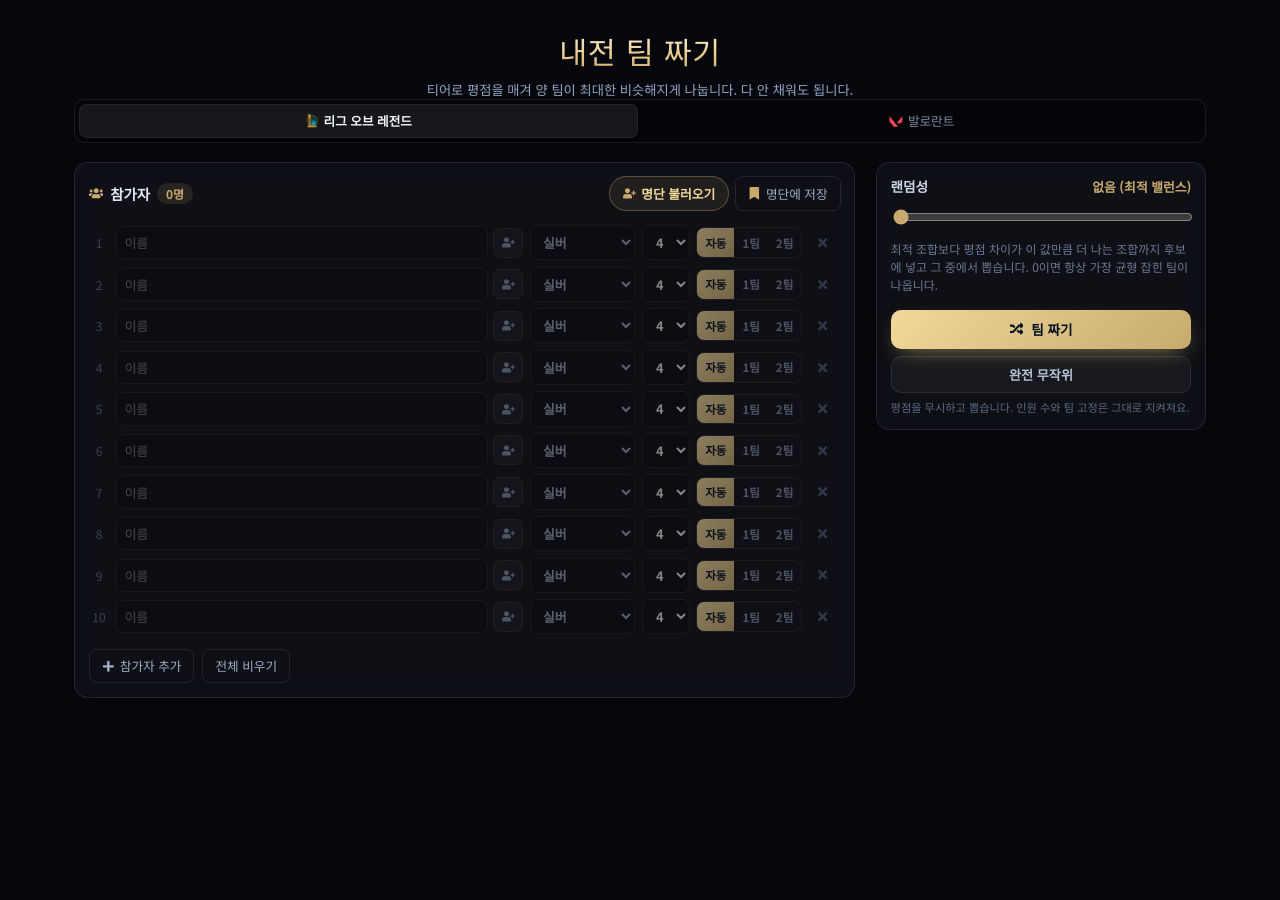
불러오기로 여러 명을 한 번에 참가자로 넣는다
This screenshot has width=1280, height=900.
Click the button "명단 불러오기".
click(669, 194)  # box [609,176,729,211]
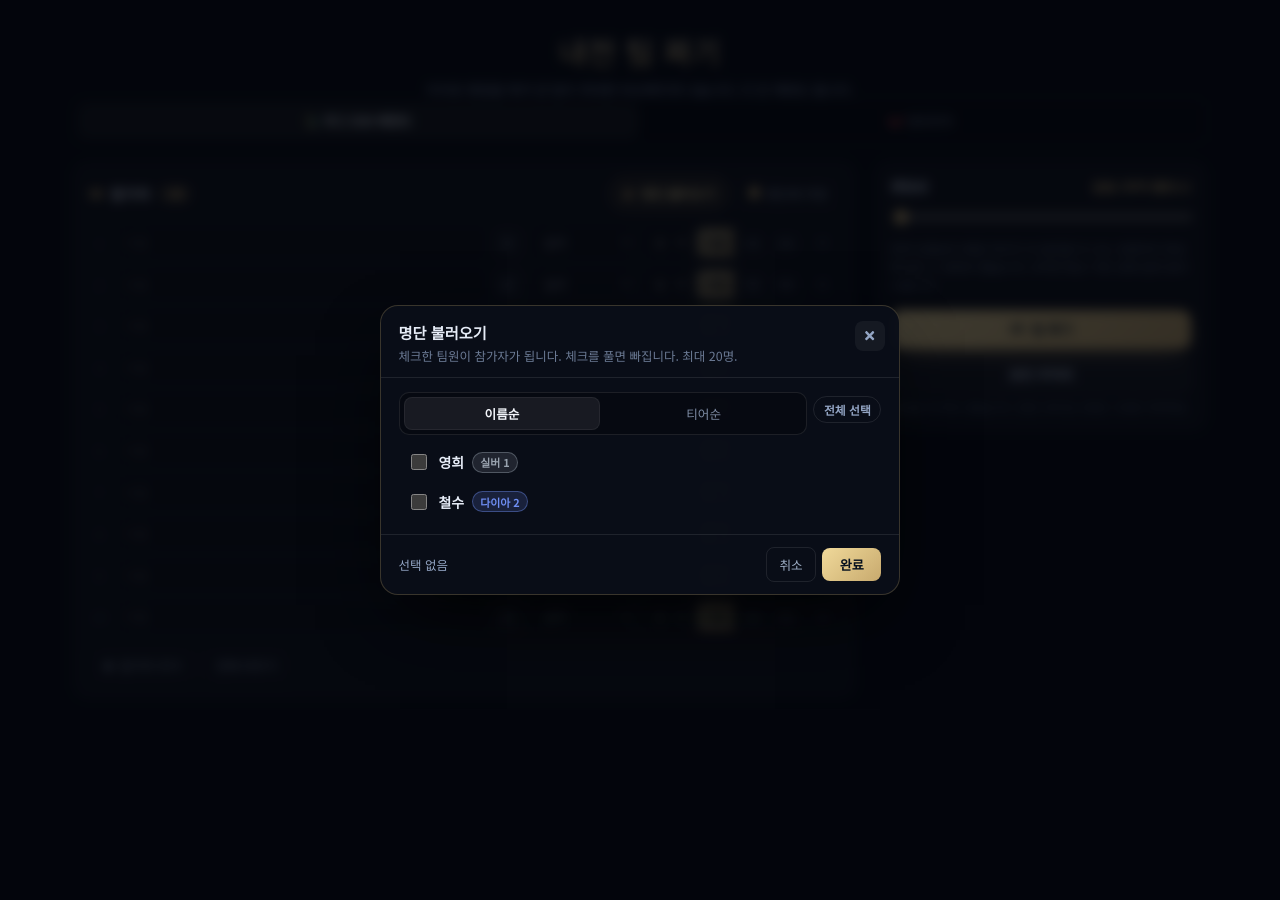
Click the checkbox labelled "영희 실버 1".
click(419, 462)  # box [411,454,427,470]
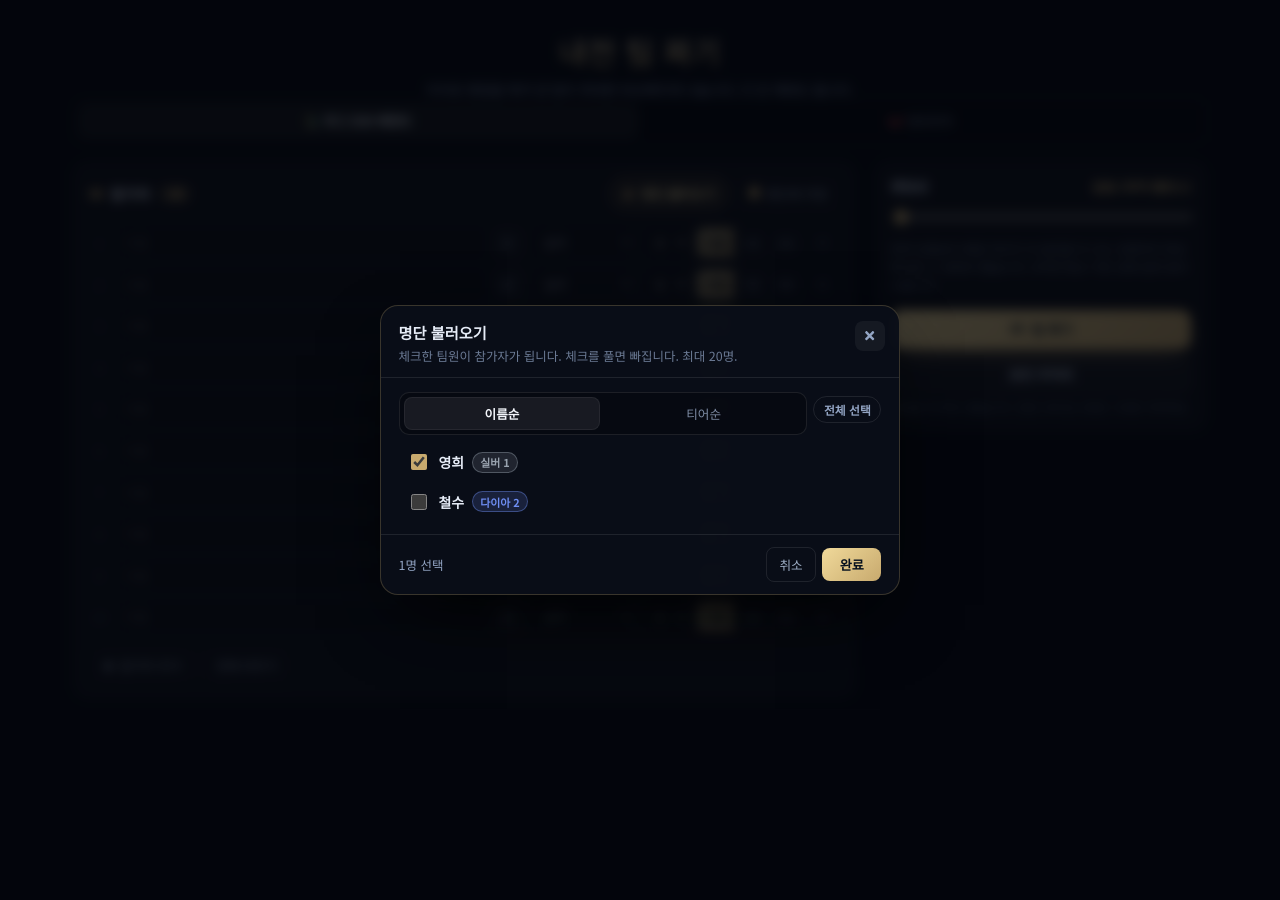
Click the checkbox labelled "철수 다이아 2".
click(419, 502)  # box [411,494,427,510]
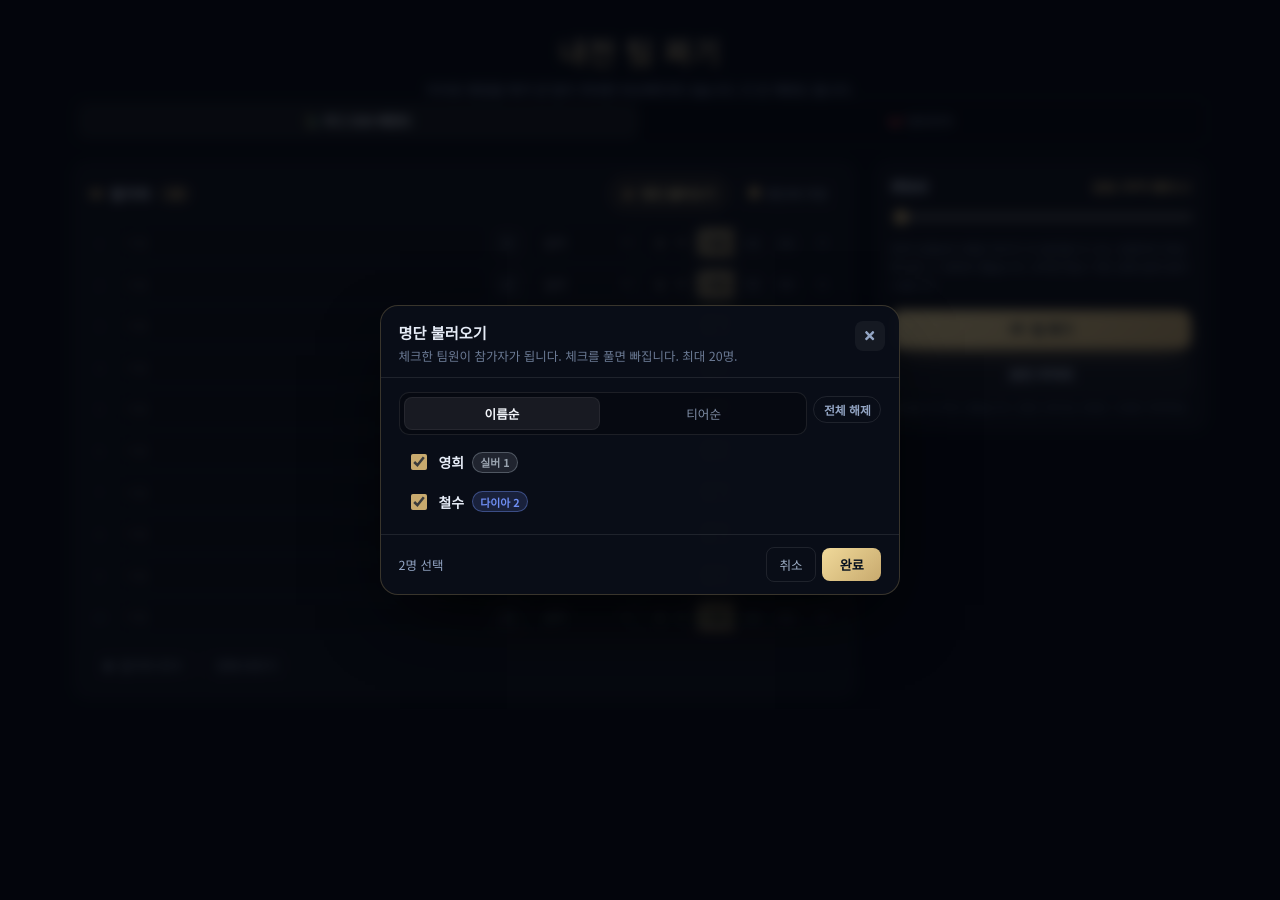
Click the button "완료".
click(852, 565)  # box [822,548,881,581]
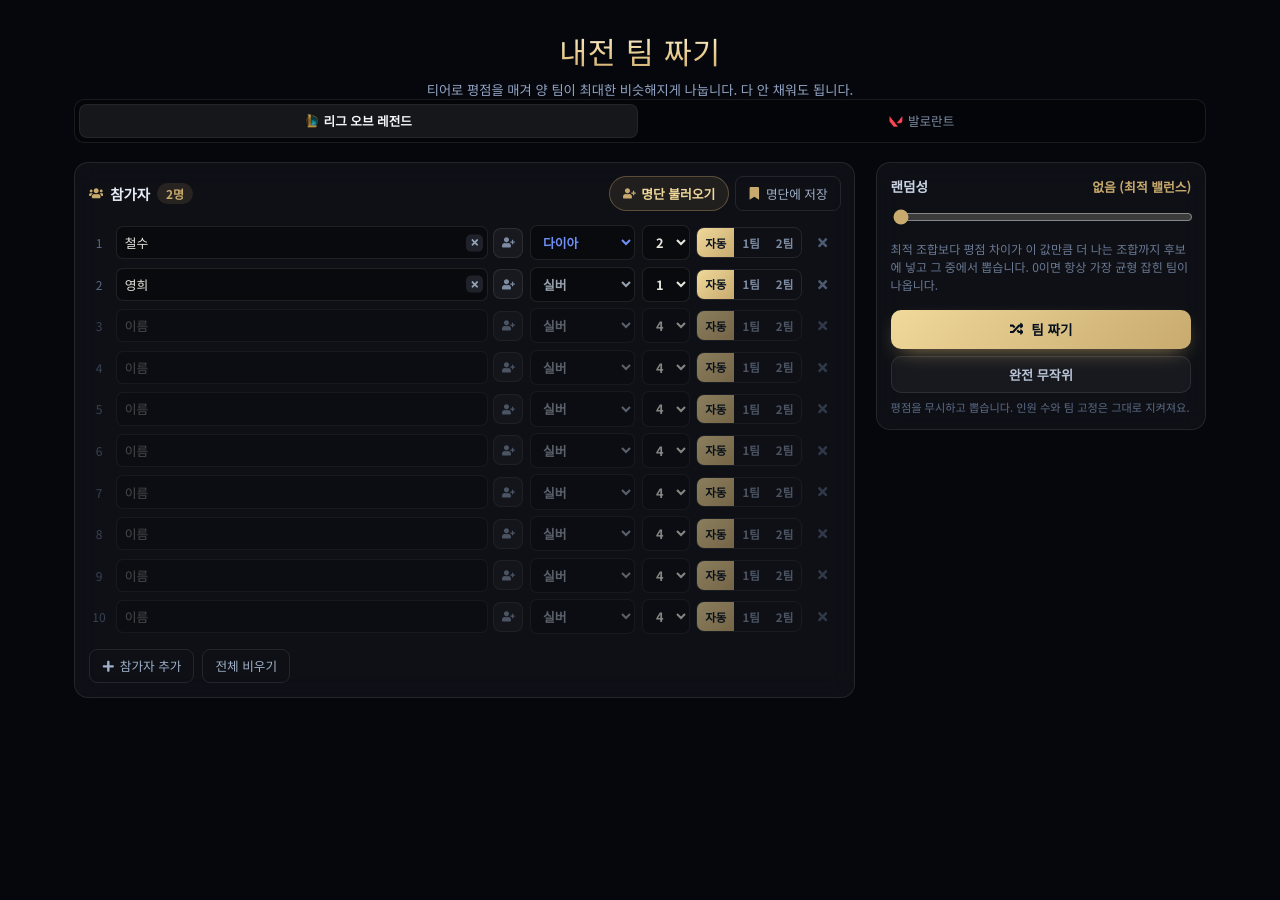
Expected: the element with class "modal-backdrop" is gone
Expected: the 1st dropdown with class "row-tier" shows "다이아", [530,225,636,260]
Expected: the 4th dropdown with class "row-div" shows "1", [642,267,690,302]
